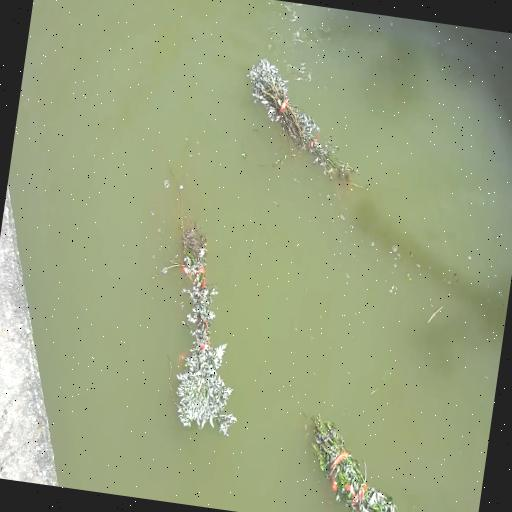twig: (157, 160, 235, 436), (247, 58, 360, 187), (311, 415, 395, 511)
